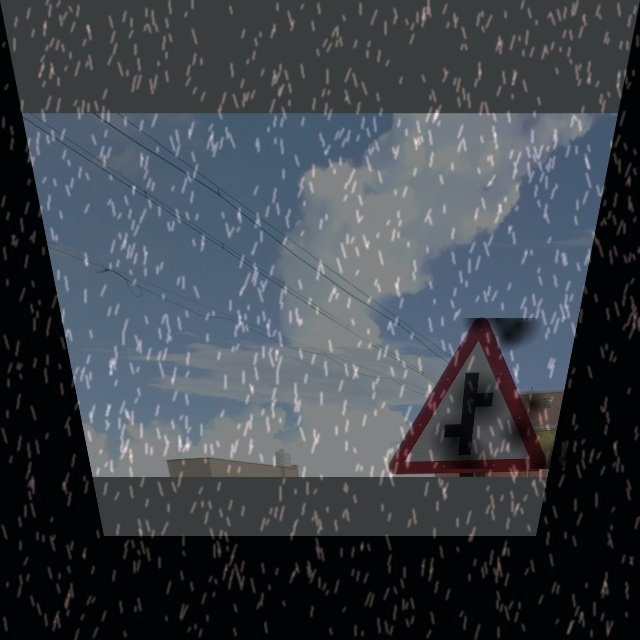Staggered_Intersection: (378, 318, 570, 469)
